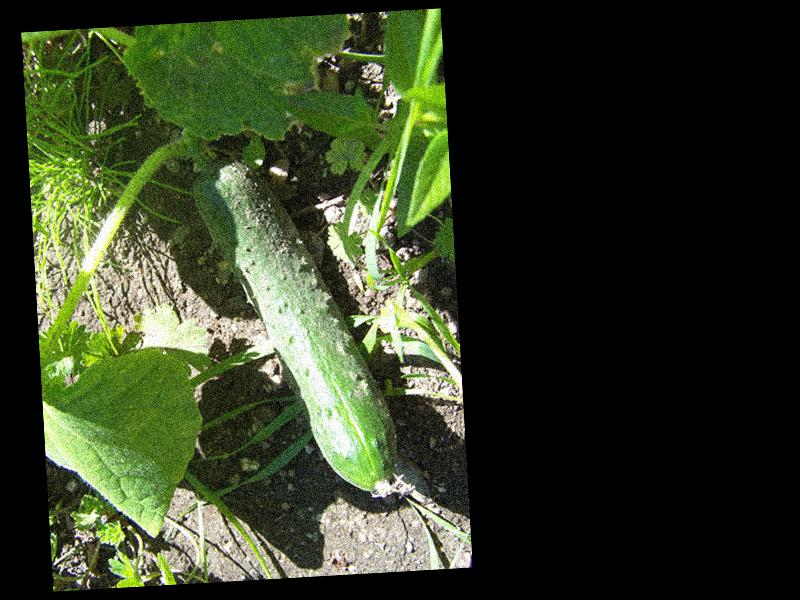Cucumber: (190, 147, 400, 505)
